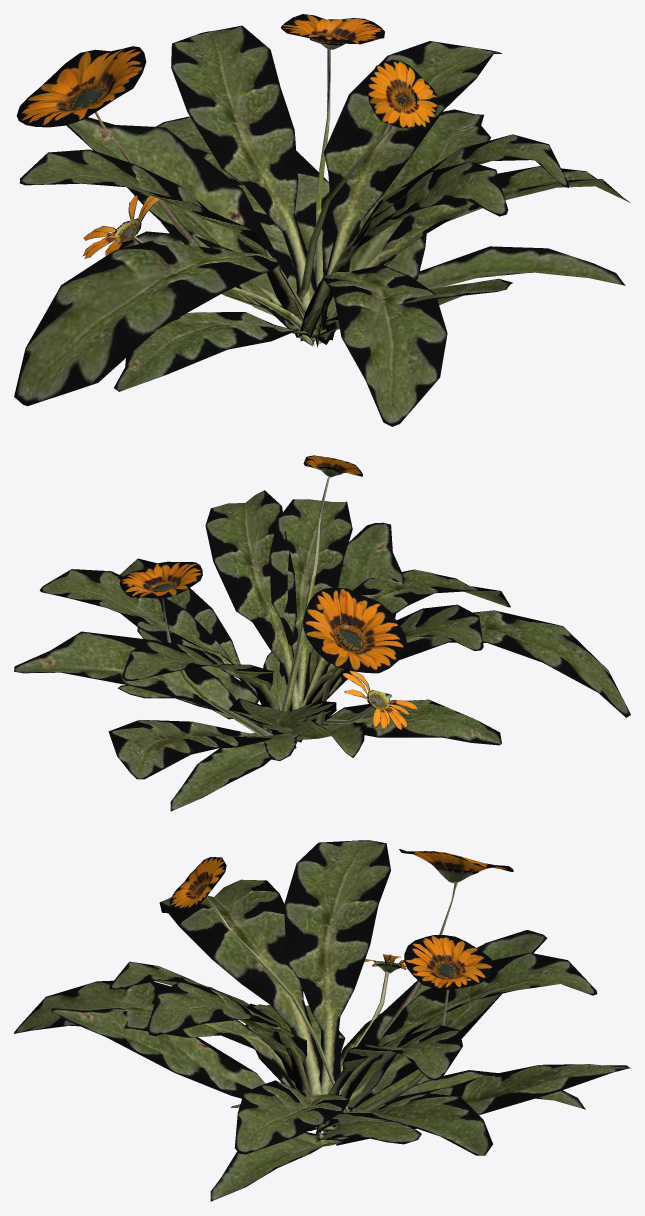
The model's file is flower_gazania_h.glb.
3 renders of one model, top to bottom at view 1: azimuth 30°, elevation 25°; view 2: azimuth 150°, elevation 25°; view 3: azimuth 270°, elevation 25°, orthographic. The views are drawn at different scales.
Parts seen in each view (by area): view 1: flower_gazania_h; view 2: flower_gazania_h; view 3: flower_gazania_h.
Part boxes in pixels (x1,y1,x2,y2): flower_gazania_h: (14,14,630,426); flower_gazania_h: (14,455,630,811); flower_gazania_h: (14,840,630,1201).
Size of the model in its own units: 0.3376 by 0.1653 by 0.3262.
1 material, 1 textured.
